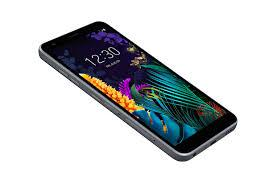Smartphone: (37, 22, 241, 164)
